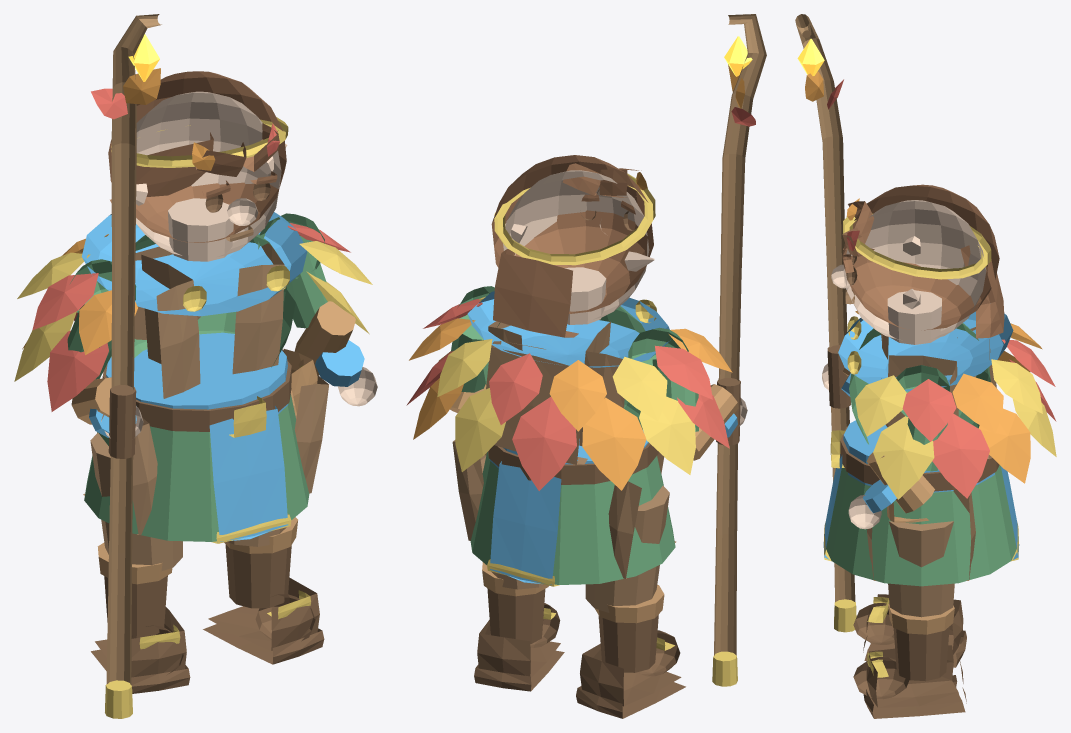
Rendered from druida_otonal.glb.
3 renders of one model, left to right at view 1: azimuth 30°, elevation 25°; view 2: azimuth 150°, elevation 25°; view 3: azimuth 270°, elevation 25°, orthographic. The views are drawn at different scales.
Visible parts, largest first — view 1: DruidaOtonal; view 2: DruidaOtonal; view 3: DruidaOtonal.
Boxes of the visible parts, left/top/right/bottom form: DruidaOtonal: left=14, top=14, right=377, bottom=718; DruidaOtonal: left=406, top=14, right=766, bottom=718; DruidaOtonal: left=795, top=14, right=1056, bottom=718.
Size of the model in its own units: 0.7266 by 1.56 by 0.6045.
